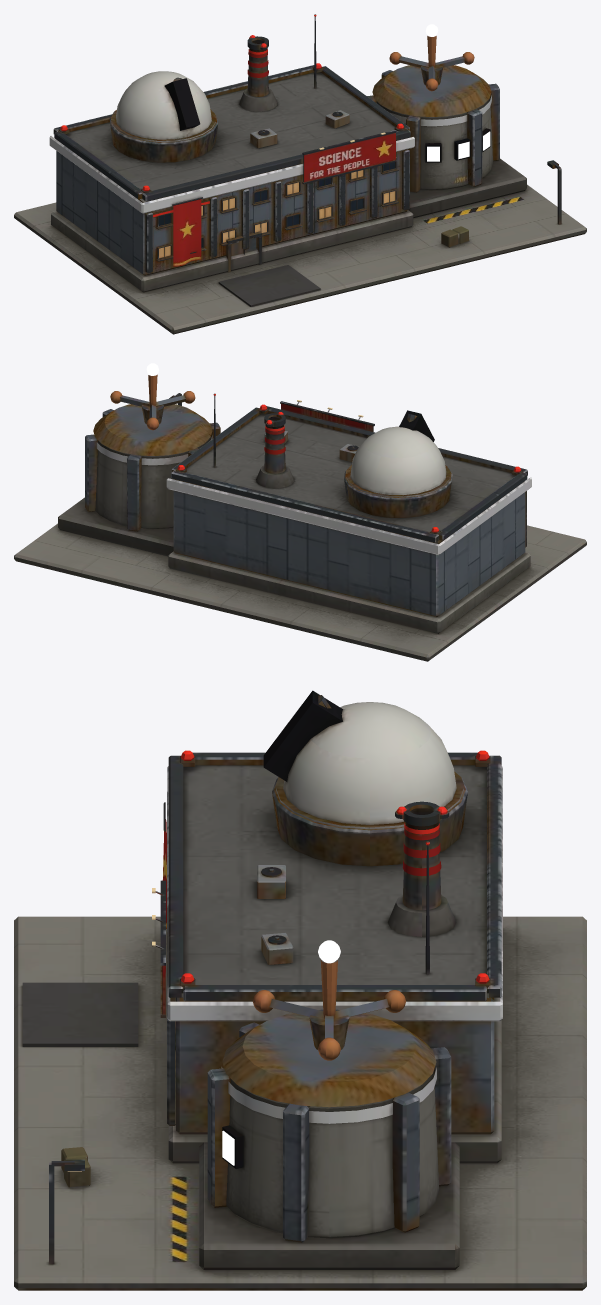
File: rlab.soviet.glb
3 renders of one model, top to bottom at view 1: azimuth 30°, elevation 25°; view 2: azimuth 150°, elevation 25°; view 3: azimuth 270°, elevation 25°, orthographic. The views are drawn at different scales.
Visible parts, largest first — view 1: root_mesh, scope_mesh, rig_mesh; view 2: root_mesh, scope_mesh, rig_mesh; view 3: root_mesh, scope_mesh, rig_mesh.
Boxes of the visible parts, x1,y1,x2,y2 form: root_mesh: (14,14,586,334); scope_mesh: (116,71,211,139); rig_mesh: (389,24,474,91); root_mesh: (14,393,586,661); scope_mesh: (350,410,446,495); rig_mesh: (110,363,195,430); root_mesh: (14,750,586,1290); scope_mesh: (263,690,456,824); rig_mesh: (252,940,405,1060).
Size of the model in its own units: 2.98 by 1.19 by 1.98.
2 materials, 1 textured.
